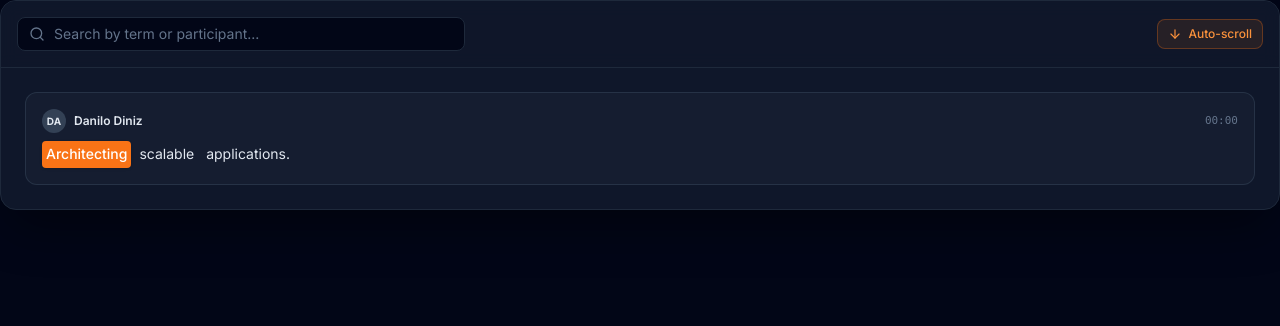
Test: TranscriptViewer › should filter words when typing in search input
Type "nonexistent" into the field with placeholder "Search by term or participant...". click: {"x": 241, "y": 34}
box: [17,17,465,51]
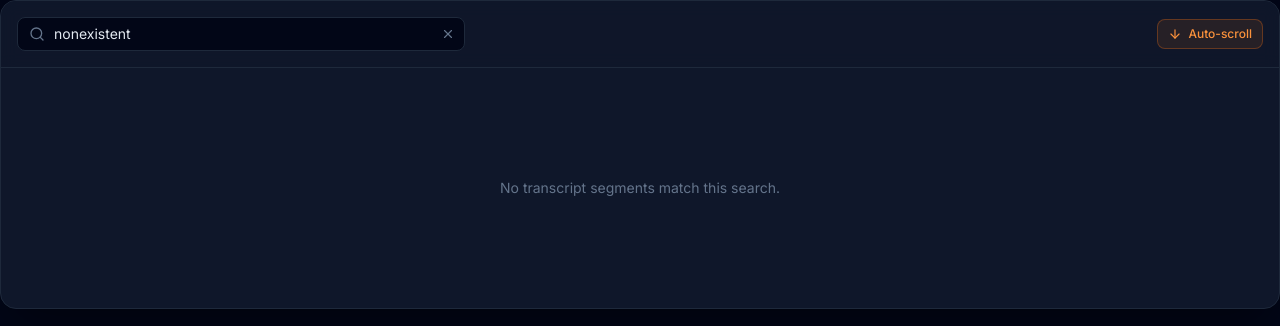
Now the text "No transcript segments match this search." is shown, box [500,179,780,196]
